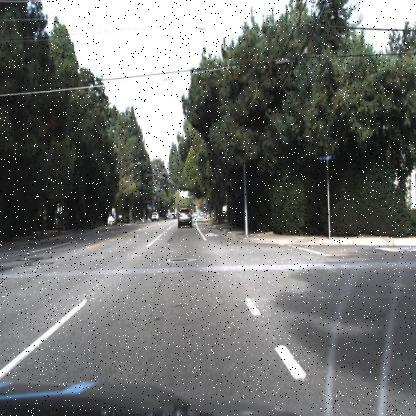car: (177, 206, 195, 232), (150, 210, 160, 223)
